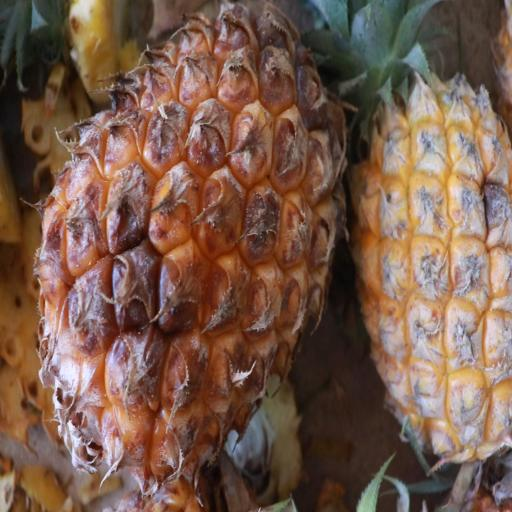Pineapple - v8 v1: (33, 7, 346, 496), (345, 2, 512, 480)
